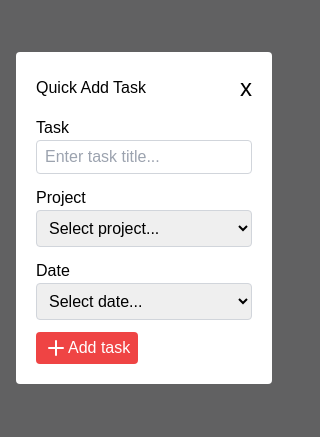
should be display the errors text, when required fields is empty
This screenshot has width=320, height=437.
Click the button "Add task" at {"x": 87, "y": 348}, box [36,332,138,364]
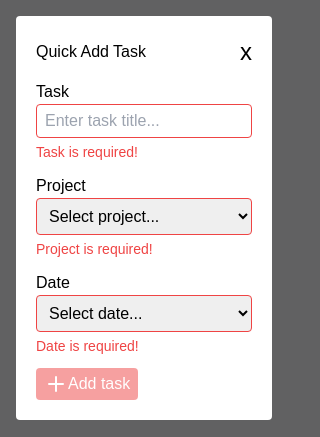
Check: the text "Task is required!" is shown 3 times, box [36,144,138,160]; [36,241,153,257]; [36,338,139,354]
